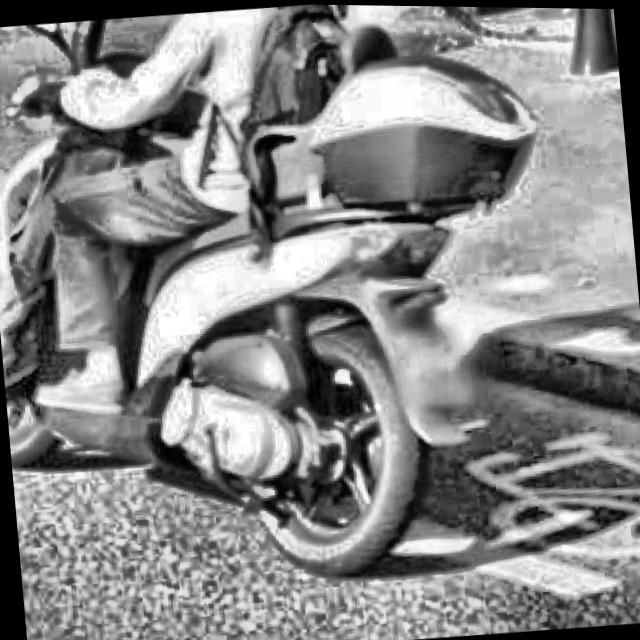motorcycle: (0, 0, 579, 603)
